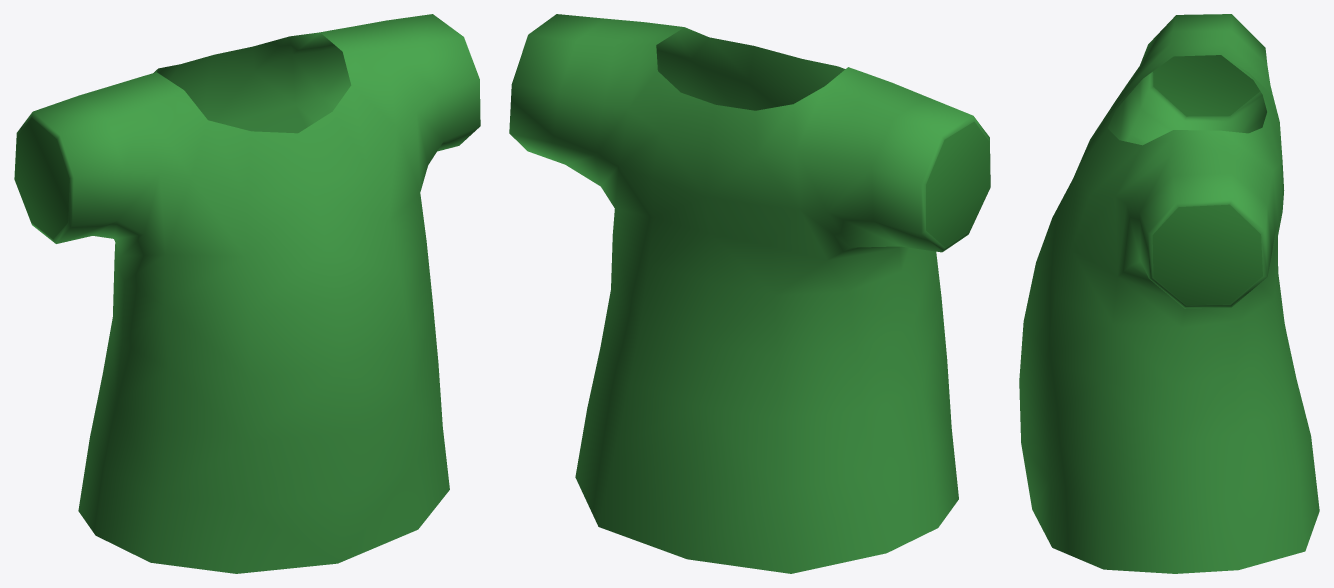
Rendered from Outerwear_Green_016.glb.
The picture shows the model from 3 angles, left to right: view 1: azimuth 30°, elevation 25°; view 2: azimuth 150°, elevation 25°; view 3: azimuth 270°, elevation 25°; orthographic projection. The views are drawn at different scales.
Parts seen in each view (by area): view 1: Outerwear_Green_016; view 2: Outerwear_Green_016; view 3: Outerwear_Green_016.
Part boxes in pixels (x1,y1,x2,y2): Outerwear_Green_016: (14,14,480,573); Outerwear_Green_016: (509,14,990,573); Outerwear_Green_016: (1019,14,1319,573).
Bounding box in the file's own units: 0.609 × 0.6218 × 0.4048.
1 material, 1 textured.
